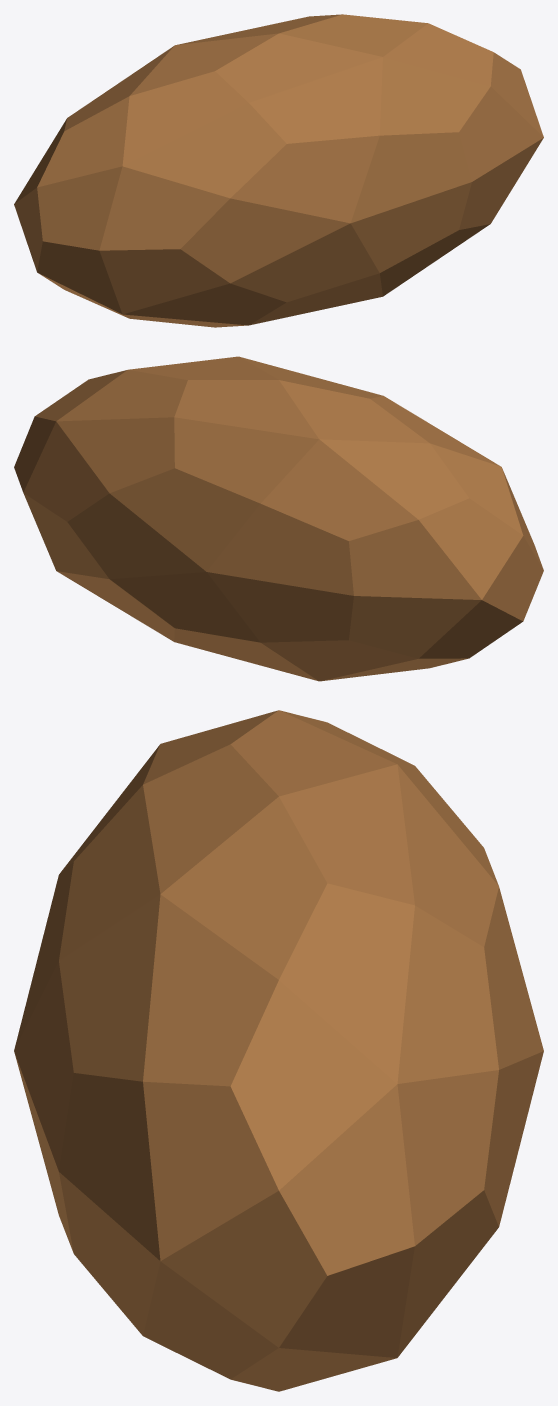
File: Medium_Rock_0.5,0.25,0.25_Colored.fbx
3 views of the same model, one above another, from view 1: azimuth 30°, elevation 25°; view 2: azimuth 150°, elevation 25°; view 3: azimuth 270°, elevation 25° (orthographic). The views are drawn at different scales.
Visible parts, largest first — view 1: Medium_Rock_0_5_0_25_0_25; view 2: Medium_Rock_0_5_0_25_0_25; view 3: Medium_Rock_0_5_0_25_0_25.
Part boxes in pixels (x1=…): Medium_Rock_0_5_0_25_0_25: x1=14, y1=14, x2=543, y2=327; Medium_Rock_0_5_0_25_0_25: x1=14, y1=356, x2=543, y2=681; Medium_Rock_0_5_0_25_0_25: x1=14, y1=710, x2=543, y2=1391.
Bounding box in the file's own units: 48.79 × 25.73 × 24.29.
